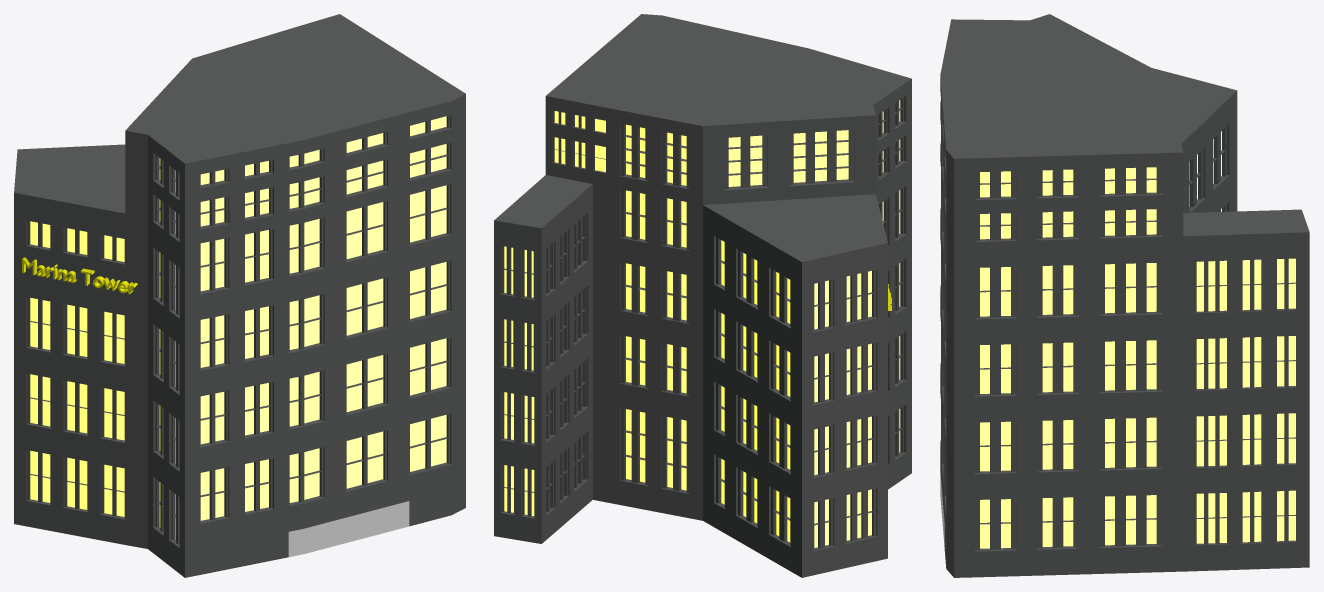
The model's file is marina_tower.fbx.
The picture shows the model from 3 angles, left to right: view 1: azimuth 30°, elevation 25°; view 2: azimuth 150°, elevation 25°; view 3: azimuth 270°, elevation 25°; orthographic projection. The views are drawn at different scales.
Parts seen in each view (by area): view 1: marina_tower; view 2: marina_tower; view 3: marina_tower.
Part boxes in pixels (box(x1,y1,x2,y2)): marina_tower: box(14, 14, 465, 577); marina_tower: box(494, 14, 911, 577); marina_tower: box(940, 14, 1309, 577).
Size of the model in its own units: 2245 by 2500 by 1997.
